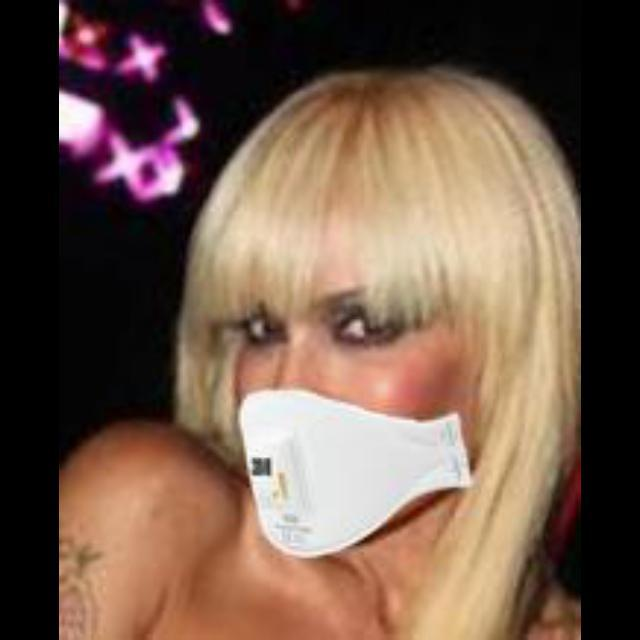suspicion: (204, 132, 492, 560)
